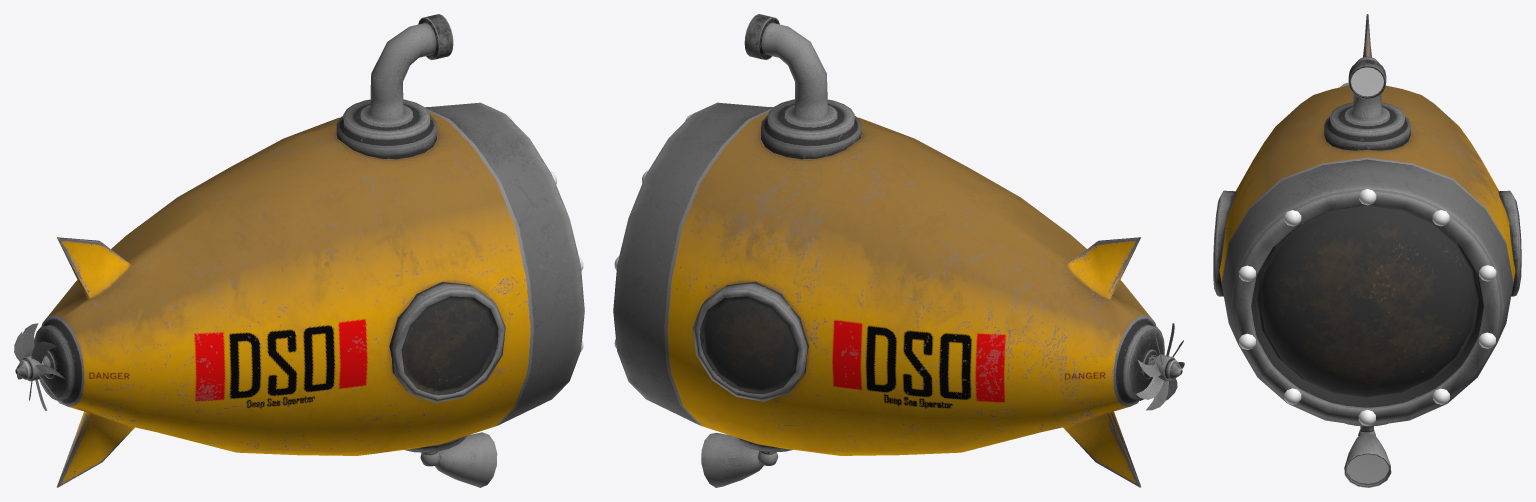
Rendered from marine.fbx.
3 renders of one model, left to right at view 1: azimuth 30°, elevation 25°; view 2: azimuth 150°, elevation 25°; view 3: azimuth 270°, elevation 25°, orthographic. The views are drawn at different scales.
Parts seen in each view (by area): view 1: pCube10, pCube10.001; view 2: pCube10, pCube10.001; view 3: pCube10, pCube10.001.
Part boxes in pixels (x1,y1,x2,y2): pCube10: [14, 14, 584, 487]; pCube10.001: [420, 432, 497, 487]; pCube10: [613, 14, 1184, 487]; pCube10.001: [701, 432, 778, 487]; pCube10: [1213, 14, 1521, 432]; pCube10.001: [1344, 430, 1391, 487].
Size of the model in its own units: 1625 by 1421 by 971.
Materials: 2 (2 with a texture image).
